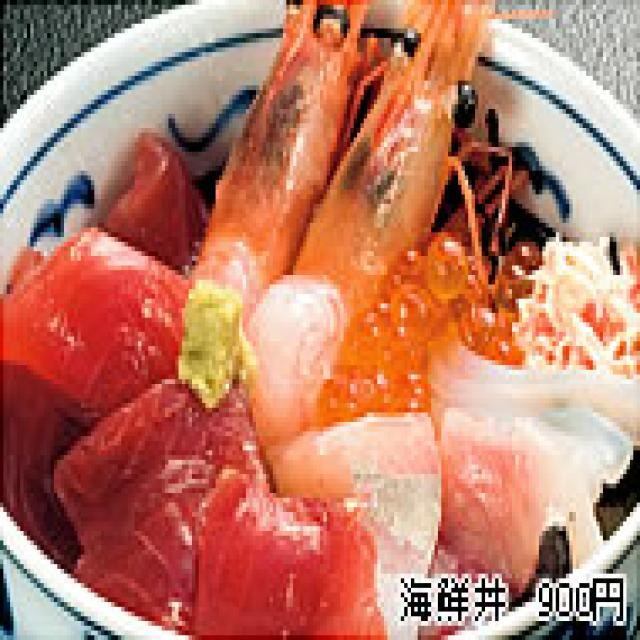刺身生食: (0, 0, 640, 569)
